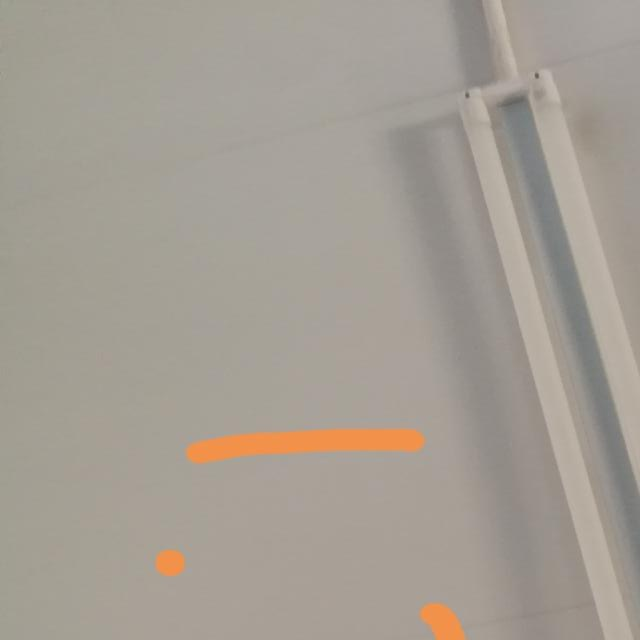fluorescent tube: (439, 59, 640, 640)
